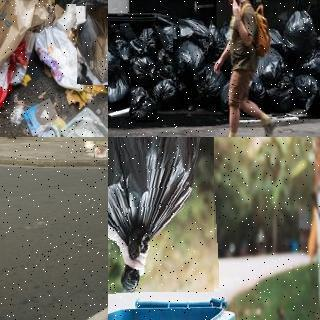Garbage: (108, 137, 216, 293), (76, 0, 108, 84), (278, 6, 318, 58), (171, 38, 208, 81), (196, 62, 225, 108), (152, 76, 187, 109), (126, 85, 157, 119), (267, 74, 297, 108), (292, 73, 320, 108), (108, 66, 131, 105), (128, 54, 156, 82), (298, 47, 320, 82), (108, 22, 122, 69), (93, 143, 108, 157), (83, 142, 96, 152)
